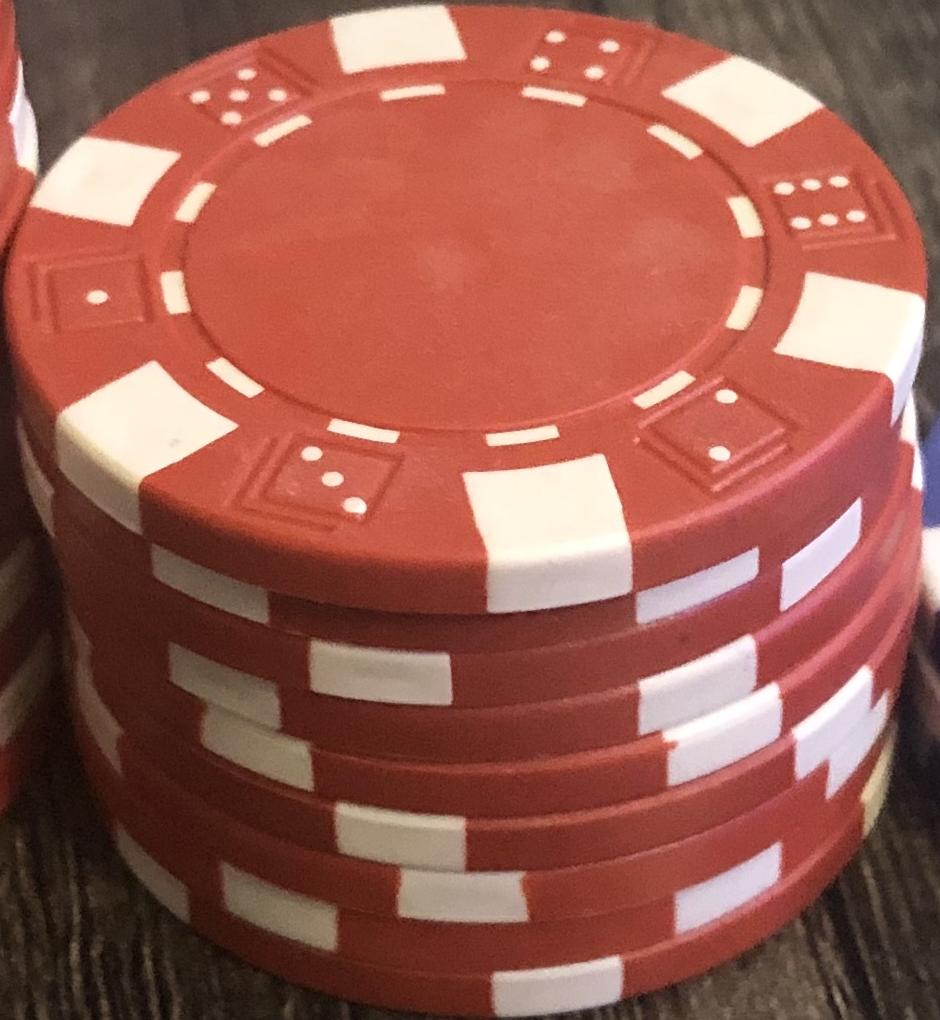Chip: (2, 1, 940, 1020)
